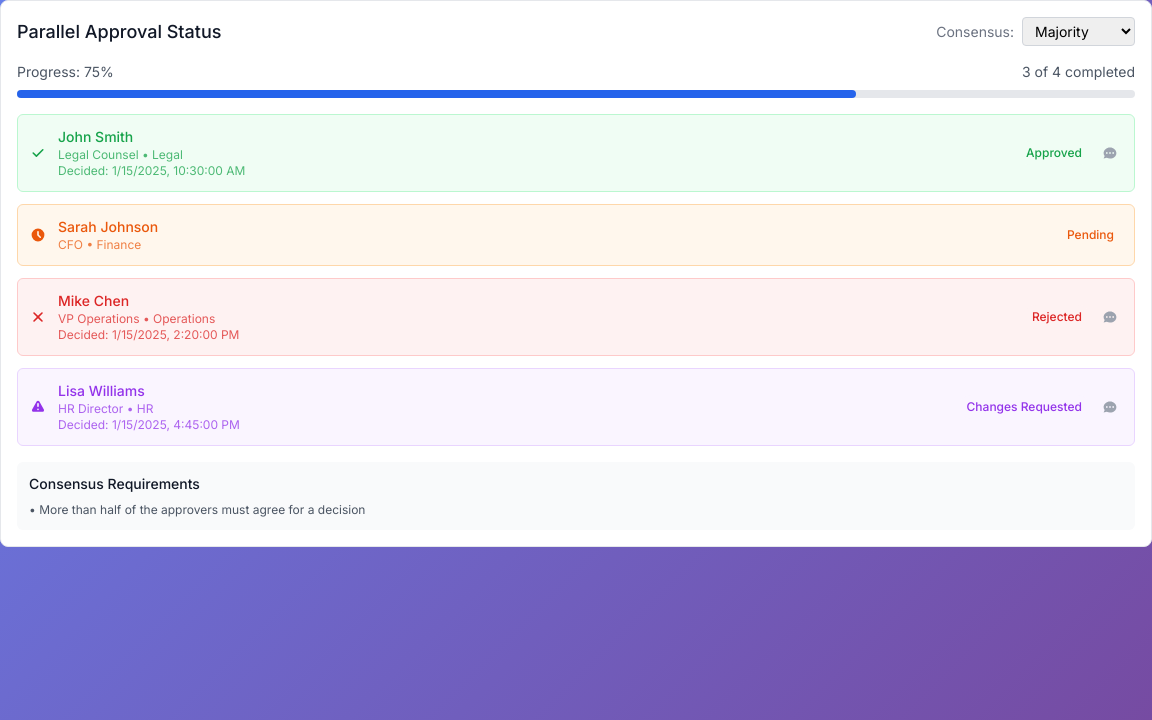
Test: ParallelApprovals › changes consensus requirements text when type changes
// Test unanimous
Select "Unanimous" in the dropdown showing "Majority" at (1078, 32), box [1022,17,1135,46]
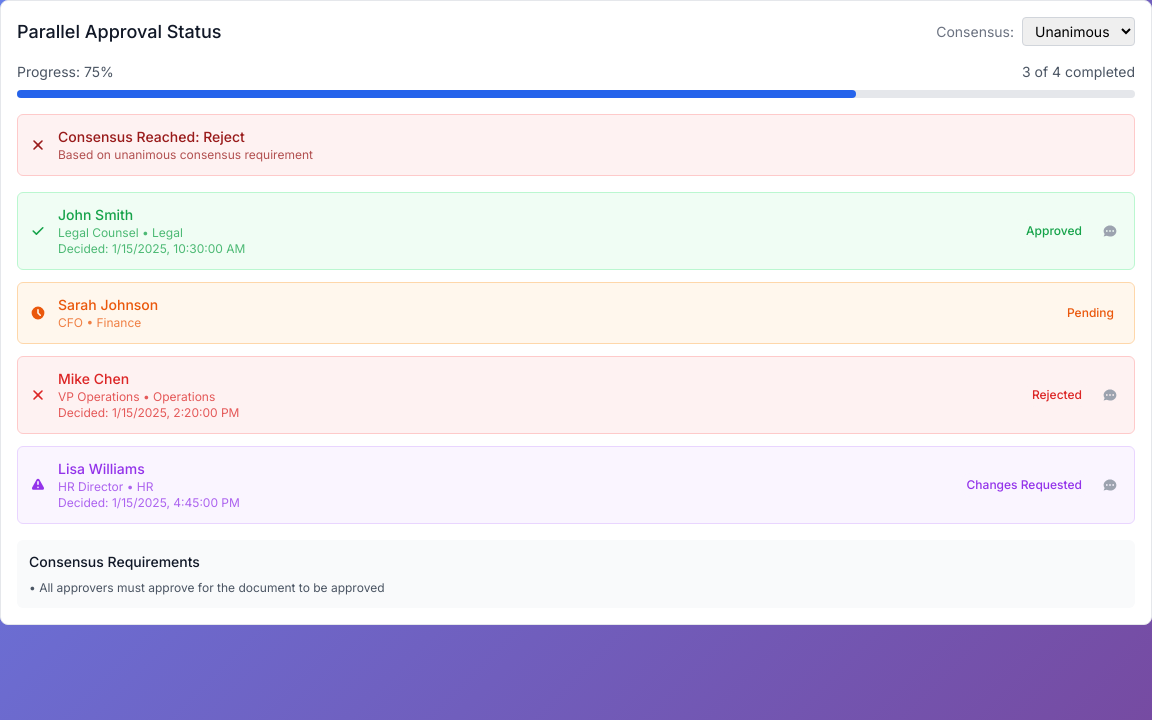
Result: the text "• All approvers must approve for the document to be approved" is shown at [29,580,384,595]
// Test weighted
Select "Weighted" in the dropdown showing "Majority" at (1078, 32), box [1022,17,1135,46]
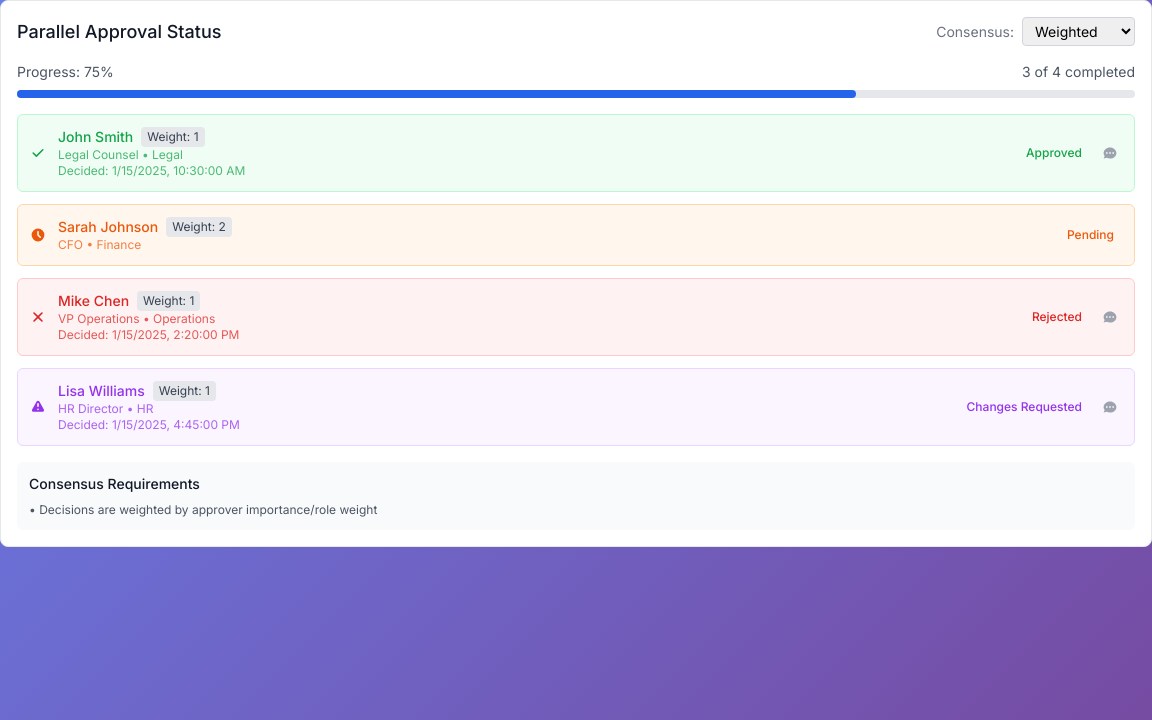
Result: the text "• Decisions are weighted by approver importance/role weight" is shown at [29,502,377,517]
// Test any
Select "Any One" in the dropdown showing "Majority" at (1078, 32), box [1022,17,1135,46]
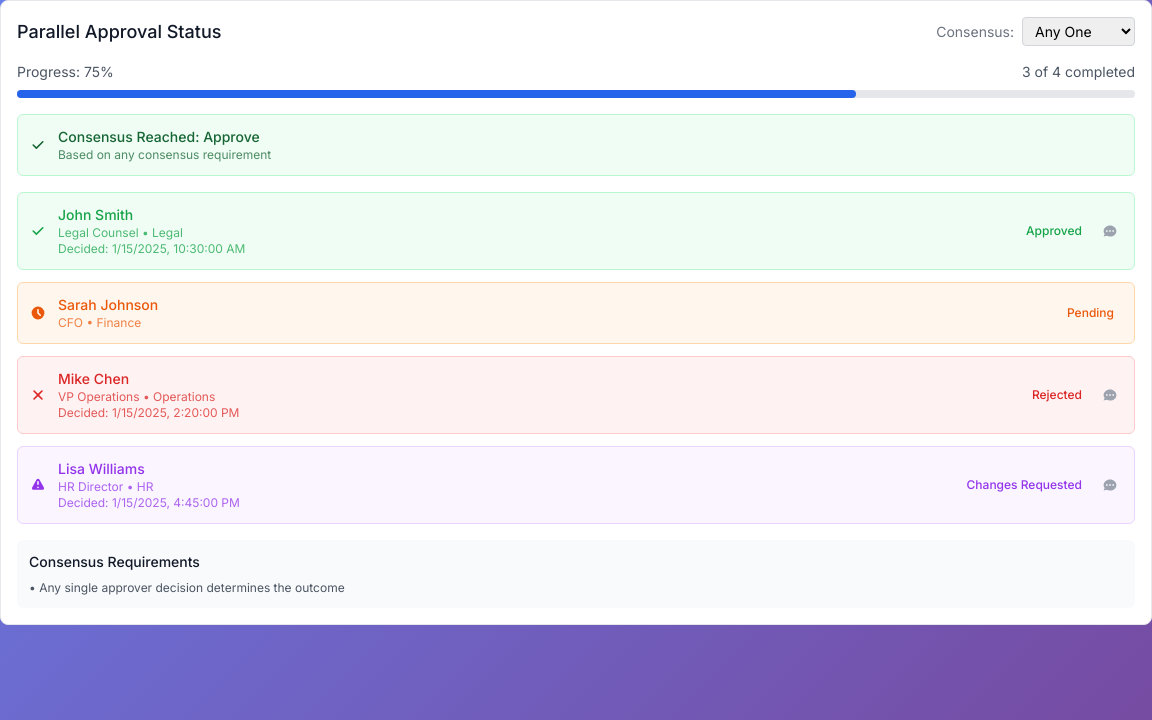
Result: the text "• Any single approver decision determines the outcome" is shown at [29,580,345,595]
